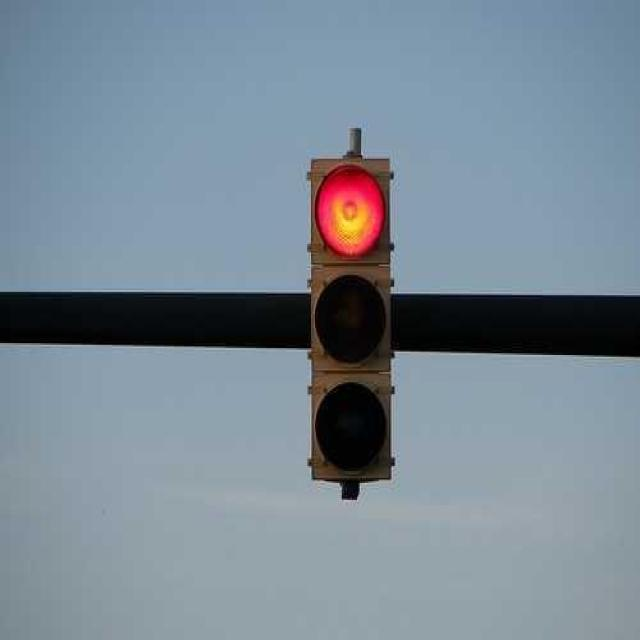Traffic Light -Red-: (264, 142, 426, 488)
